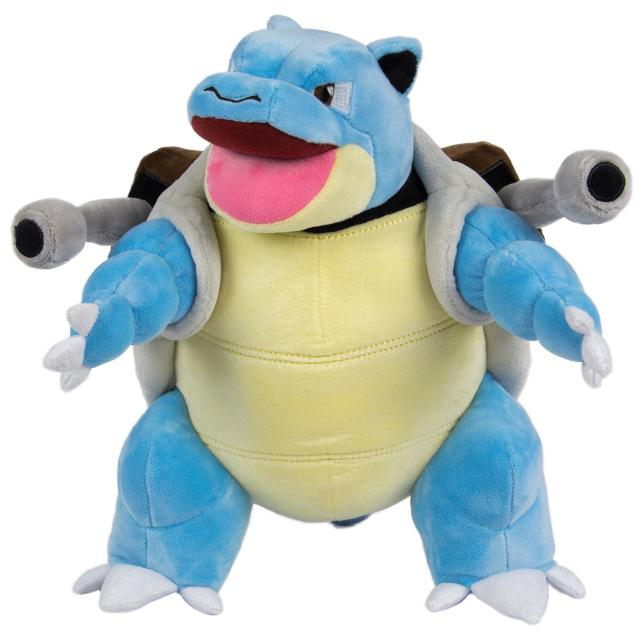Blastoise: (33, 15, 620, 550)
